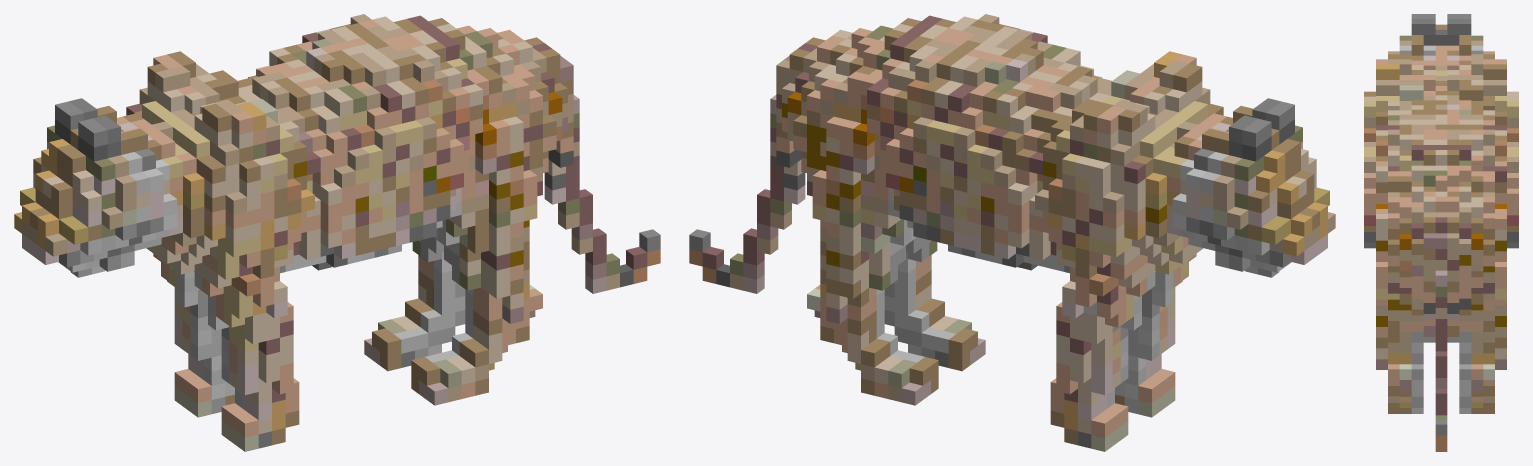
Rendered from bengal_tiger.gltf.
3 renders of one model, left to right at view 1: azimuth 30°, elevation 25°; view 2: azimuth 150°, elevation 25°; view 3: azimuth 270°, elevation 25°, orthographic. The views are drawn at different scales.
Parts seen in each view (by area): view 1: Geode; view 2: Geode; view 3: Geode.
Part boxes in pixels (x1=…): Geode: x1=14, y1=14, x2=660, y2=451; Geode: x1=689, y1=14, x2=1335, y2=451; Geode: x1=1364, y1=14, x2=1518, y2=451.
Size of the model in its own units: 46 by 24 by 13.
